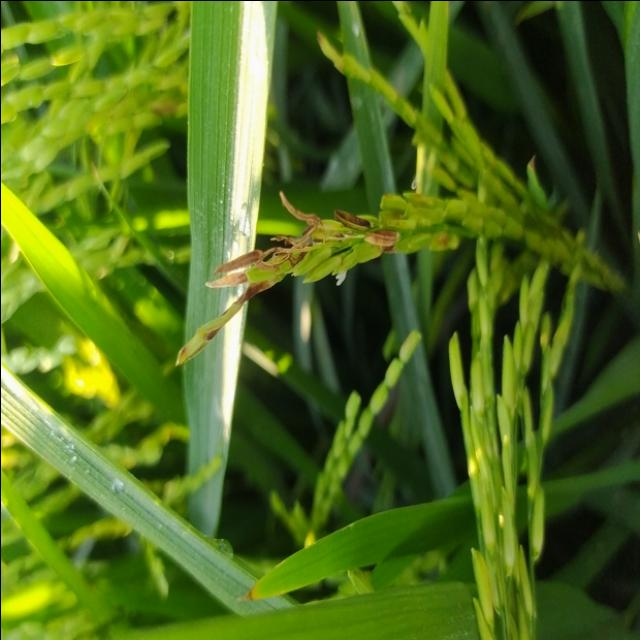Brown spot: (232, 548, 314, 610)
